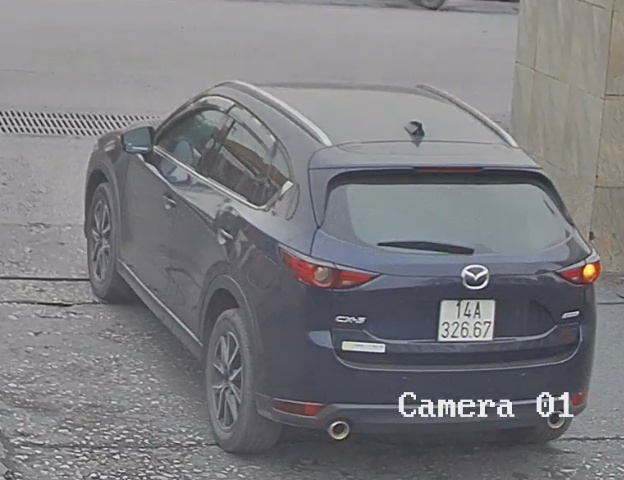vehicle plate: (437, 294, 495, 343)
